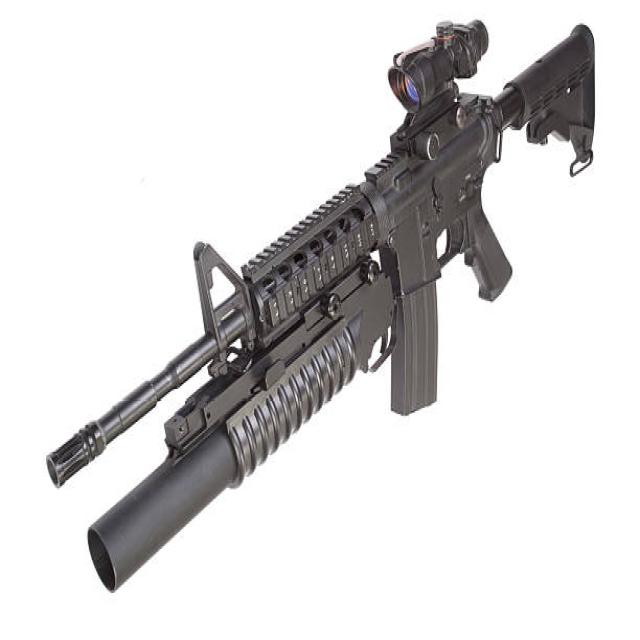rifle: (48, 5, 602, 600)
